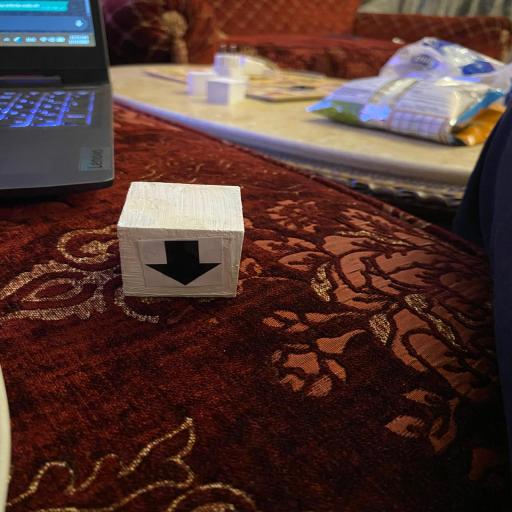Down: (114, 181, 250, 297)
